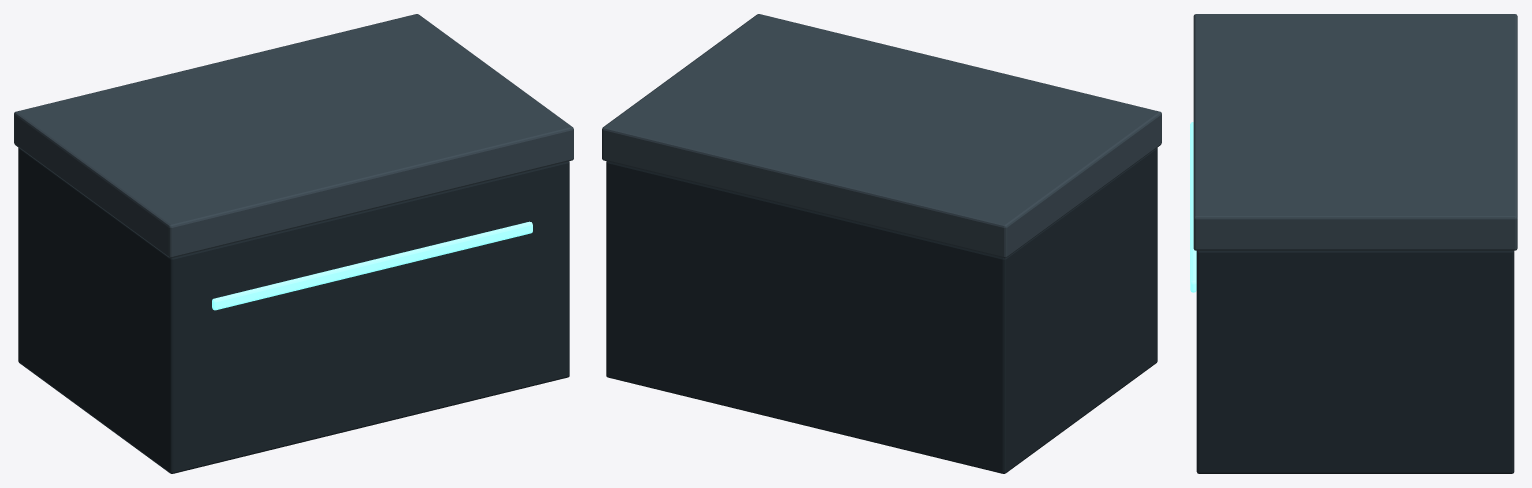
Rendered from CC_S16_P2_Furniture_LowDisplay_LOD0.fbx.
3 views of the same model, side by side, from view 1: azimuth 30°, elevation 25°; view 2: azimuth 150°, elevation 25°; view 3: azimuth 270°, elevation 25° (orthographic). The views are drawn at different scales.
Parts seen in each view (by area): view 1: CC_S16_P2_Furniture_LowDisplay_LOD0_Base, CC_S16_P2_Furniture_LowDisplay_LOD0_Top, CC_S16_P2_Furniture_LowDisplay_LOD0_Accent; view 2: CC_S16_P2_Furniture_LowDisplay_LOD0_Base, CC_S16_P2_Furniture_LowDisplay_LOD0_Top; view 3: CC_S16_P2_Furniture_LowDisplay_LOD0_Top, CC_S16_P2_Furniture_LowDisplay_LOD0_Base, CC_S16_P2_Furniture_LowDisplay_LOD0_Accent.
Boxes of the visible parts, x1=… form: CC_S16_P2_Furniture_LowDisplay_LOD0_Base: x1=18, y1=147, x2=569, y2=473; CC_S16_P2_Furniture_LowDisplay_LOD0_Top: x1=14, y1=14, x2=573, y2=258; CC_S16_P2_Furniture_LowDisplay_LOD0_Accent: x1=212, y1=221, x2=532, y2=310; CC_S16_P2_Furniture_LowDisplay_LOD0_Base: x1=606, y1=147, x2=1157, y2=473; CC_S16_P2_Furniture_LowDisplay_LOD0_Top: x1=602, y1=14, x2=1161, y2=258; CC_S16_P2_Furniture_LowDisplay_LOD0_Top: x1=1193, y1=14, x2=1517, y2=250; CC_S16_P2_Furniture_LowDisplay_LOD0_Base: x1=1196, y1=250, x2=1514, y2=473; CC_S16_P2_Furniture_LowDisplay_LOD0_Accent: x1=1190, y1=122, x2=1196, y2=292.
Size of what is drawn, in the model's own units: 1.52 by 0.9 by 1.03.
